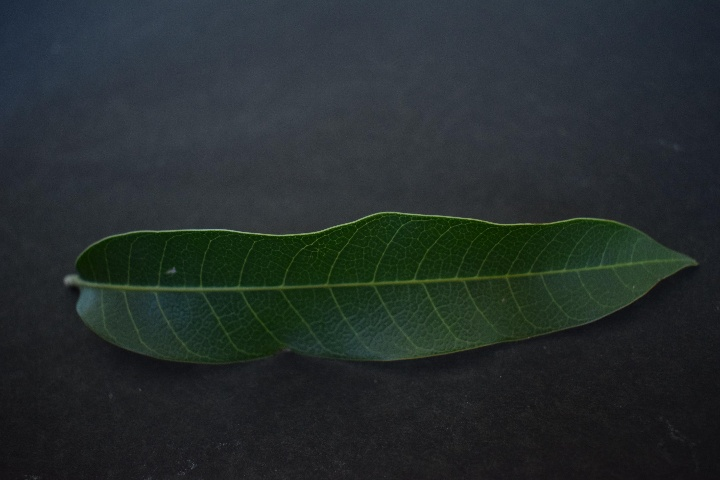healthy: (66, 210, 679, 366)
